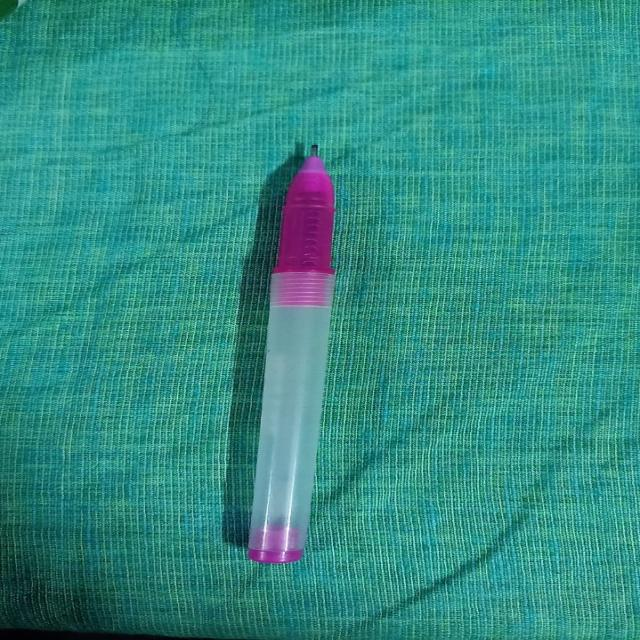pen: (232, 138, 353, 568)
